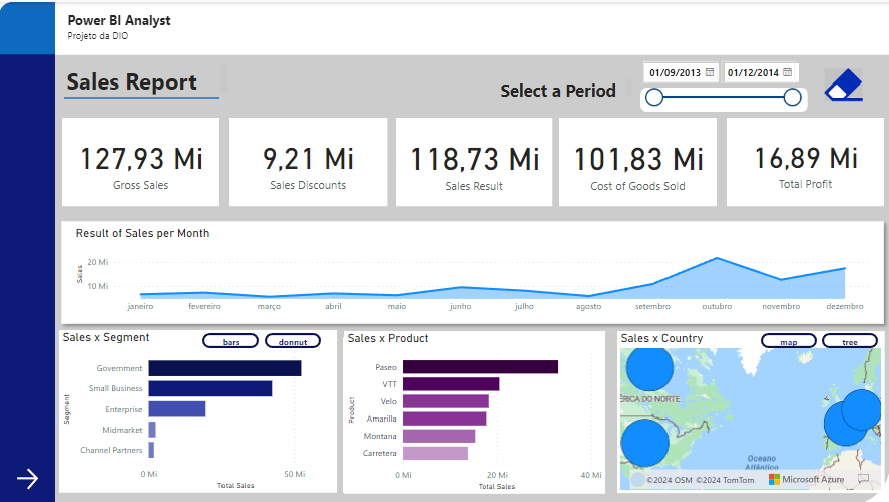

This screenshot's page, from the dashboard's own definition file:
{"tool":"powerbi","page":{"name":"Página 1","canvas":[1280,720],"ordinal":0},"visuals":[{"type":"shape","title":"fundo","box":[0,0,1280.2,720],"z":0},{"type":"shape","box":[0,0,80.6,720.6],"z":0,"group":"g1"},{"type":"shape","box":[80.5,0,1199.5,76.3],"z":0,"group":"g6"},{"type":"shape","box":[93.6,122.4,223.2,28.8],"z":0,"group":"g4"},{"type":"shape","box":[921.6,122.4,240.5,34.6],"z":0,"group":"g2"},{"type":"card","fields":{"Values":["Sum(financials. Sales)"]},"box":[570.2,165.6,225,126.7],"z":0,"group":"g3"},{"type":"clusteredBarChart","title":"Sales x Segment","fields":{"Category":["financials.Segment"],"Y":["Sum(financials. Sales)"]},"box":[86.4,469.4,398.9,233.3],"z":0,"group":"g7"},{"type":"azureMap","title":"Sales x Country","fields":{"Category":["financials.Country"],"Size":["Sum(financials. Sales)"]},"box":[888.5,470.9,383.7,232.1],"z":0,"group":"g5"},{"type":"shape","box":[0,0,80.6,75.6],"z":1000,"group":"g1"},{"type":"textbox","box":[93.6,8.6,275,59],"z":1000,"group":"g6"},{"type":"textbox","box":[92.2,85,240.5,51.8],"z":1000,"group":"g4"},{"type":"shape","box":[1042.5,87.8,106.6,27.4],"z":1000,"group":"g2"},{"type":"card","fields":{"Values":["Sum(financials.COGS)"]},"box":[804.9,165.6,226.1,126.7],"z":1000,"group":"g3"},{"type":"shape","box":[80.5,305.3,1199.5,164.2],"z":1000},{"type":"group","id":"g1","title":"aba lateral","box":[0,0,80.6,720.6],"z":2000},{"type":"shape","box":[927.3,88,106.6,27.4],"z":2000,"group":"g2"},{"type":"card","fields":{"Values":["Sum(financials.Discounts)"]},"box":[329.7,165.6,227.5,126.7],"z":2000,"group":"g3"},{"type":"actionButton","title":"Buttom map","box":[1095,473.1,80.6,21.6],"z":2000,"group":"g5"},{"type":"actionButton","title":"Buttom donnut","box":[381.6,473.7,80.6,21.6],"z":2000,"group":"g7"},{"type":"image","box":[1181.8,86.8,64.8,64.8],"z":3000,"group":"g2"},{"type":"card","fields":{"Values":["Sum(financials.Gross Sales)"]},"box":[90.7,165.6,226.1,126.7],"z":3000,"group":"g3"},{"type":"actionButton","title":"Buttom bars","box":[292.3,473.7,80.6,21.6],"z":3000,"group":"g7"},{"type":"actionButton","title":"Buttom tree","box":[1181.6,474,80.6,21.6],"z":3000,"group":"g5"},{"type":"shape","box":[493.9,479.5,375.8,223.2],"z":3000},{"type":"textbox","box":[716.3,103.7,198.7,38.9],"z":4000,"group":"g2"},{"type":"card","fields":{"Values":["Sum(financials.Profit)"]},"box":[1045.4,165.6,226.1,126.7],"z":4000,"group":"g3"},{"type":"shape","box":[894.2,479.5,375.8,223.2],"z":4000},{"type":"slicer","fields":{"Values":["financials.Date"]},"box":[914,75.3,247.7,80.6],"z":5000,"group":"g2"},{"type":"areaChart","title":"Result of  Sales per Month","fields":{"Category":["financials.Date.Variation.Hierarquia de datas.Mês"],"Y":["Sum(financials. Sales)"]},"box":[105.1,321.1,1152,132.5],"z":5000},{"type":"actionButton","box":[1181.8,98.3,66.2,50.4],"z":6000,"group":"g2"},{"type":"clusteredBarChart","title":"Sales x Product","fields":{"Y":["Sum(financials. Sales)"],"Category":["financials.Product"]},"box":[494.7,471.2,375.5,232.9],"z":6000},{"type":"group","id":"g2","title":"Select a period","box":[716.3,75.3,531.8,81.7],"z":7000},{"type":"group","id":"g3","title":"cards","box":[90.7,165.6,1180.8,126.7],"z":8000},{"type":"group","id":"g4","title":"Sales report","box":[92.2,85,240.5,66.2],"z":9000},{"type":"actionButton","title":"next page buttom","box":[19.5,661.7,40.4,40.4],"z":10000},{"type":"group","id":"g5","title":"Sales per Country","box":[888.5,470.9,383.7,232.5],"z":11000},{"type":"group","id":"g6","title":"title PowerBiAnalyst","box":[80.5,0,1199.5,76.3],"z":12000},{"type":"group","id":"g7","title":"sales x segment","box":[86.4,469.4,398.9,233.3],"z":13000}]}

Visuals, with their boxes on the page's 1280x720 design canvas (x1, y1, x2, y2). These are canvas units, not pixel positions in the 889x502 screenshot, which may show the page scaled, cropped or inside an application window:
"fundo" shape: bbox=(0, 0, 1280, 720)
shape: bbox=(0, 0, 81, 721)
shape: bbox=(80, 0, 1280, 76)
shape: bbox=(94, 122, 317, 151)
shape: bbox=(922, 122, 1162, 157)
card - Sum(financials. Sales): bbox=(570, 166, 795, 292)
"Sales x Segment" clusteredBarChart: bbox=(86, 469, 485, 703)
"Sales x Country" azureMap: bbox=(888, 471, 1272, 703)
shape: bbox=(0, 0, 81, 76)
textbox: bbox=(94, 9, 369, 68)
textbox: bbox=(92, 85, 333, 137)
shape: bbox=(1042, 88, 1149, 115)
card - Sum(financials.COGS): bbox=(805, 166, 1031, 292)
shape: bbox=(80, 305, 1280, 470)
"aba lateral" group: bbox=(0, 0, 81, 721)
shape: bbox=(927, 88, 1034, 115)
card - Sum(financials.Discounts): bbox=(330, 166, 557, 292)
"Buttom map" actionButton: bbox=(1095, 473, 1176, 495)
"Buttom donnut" actionButton: bbox=(382, 474, 462, 495)
image: bbox=(1182, 87, 1247, 152)
card - Sum(financials.Gross Sales): bbox=(91, 166, 317, 292)
"Buttom bars" actionButton: bbox=(292, 474, 373, 495)
"Buttom tree" actionButton: bbox=(1182, 474, 1262, 496)
shape: bbox=(494, 480, 870, 703)
textbox: bbox=(716, 104, 915, 143)
card - Sum(financials.Profit): bbox=(1045, 166, 1272, 292)
shape: bbox=(894, 480, 1270, 703)
slicer - financials.Date: bbox=(914, 75, 1162, 156)
"Result of  Sales per Month" areaChart: bbox=(105, 321, 1257, 454)
actionButton: bbox=(1182, 98, 1248, 149)
"Sales x Product" clusteredBarChart: bbox=(495, 471, 870, 704)
"Select a period" group: bbox=(716, 75, 1248, 157)
"cards" group: bbox=(91, 166, 1272, 292)
"Sales report" group: bbox=(92, 85, 333, 151)
"next page buttom" actionButton: bbox=(20, 662, 60, 702)
"Sales per Country" group: bbox=(888, 471, 1272, 703)
"title PowerBiAnalyst" group: bbox=(80, 0, 1280, 76)
"sales x segment" group: bbox=(86, 469, 485, 703)
